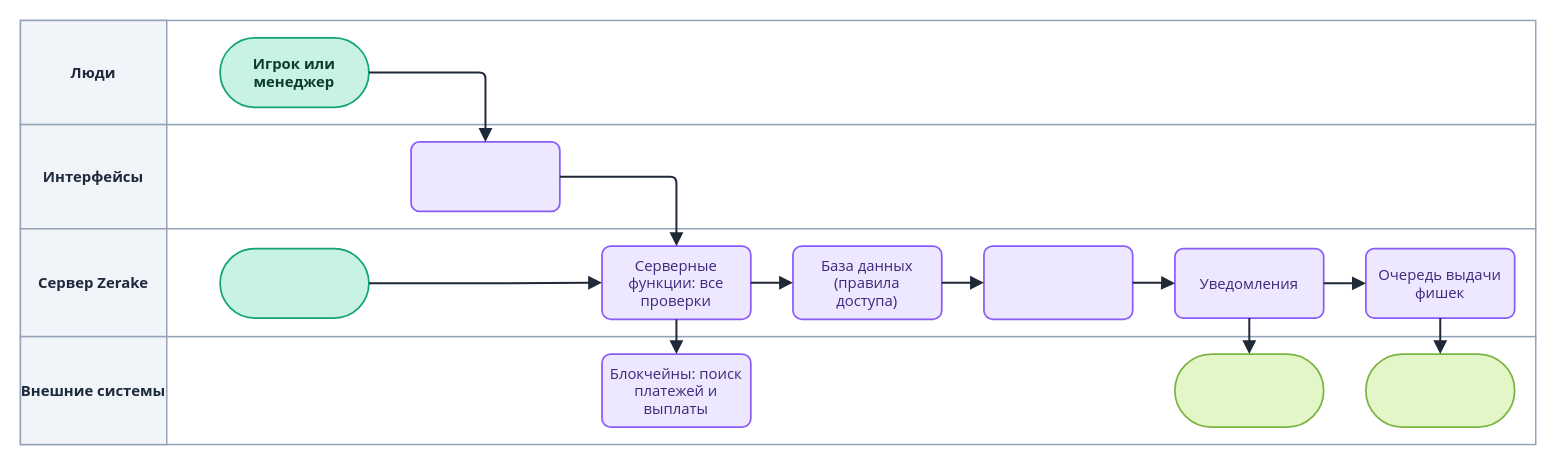
Some shapes in this 1556 by 465 pixel diagram are drawn without their labels. Here are the shapes that lost their labels. From the top down, the centre of each, then its label:
At (485,176): "Мини-приложение или админка".
At (294,282): "Планировщик раз в минуту".
At (1057,282): "Журнал операций (только дописывание)".
At (1248,390): "Боты Telegram: игроки и команда".
At (1439,390): "Агент → ClubGG: выдача фишек".
